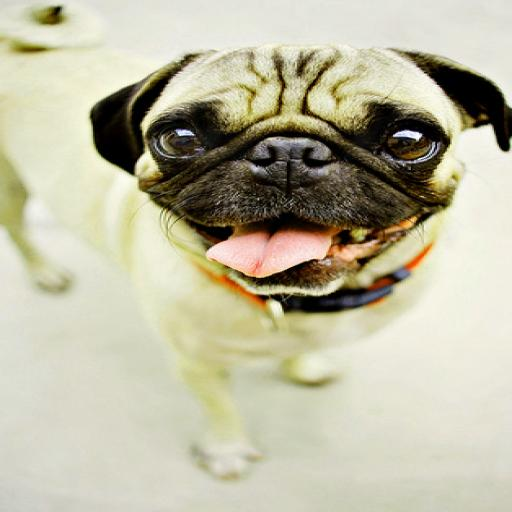dog_face: (89, 39, 512, 294)
